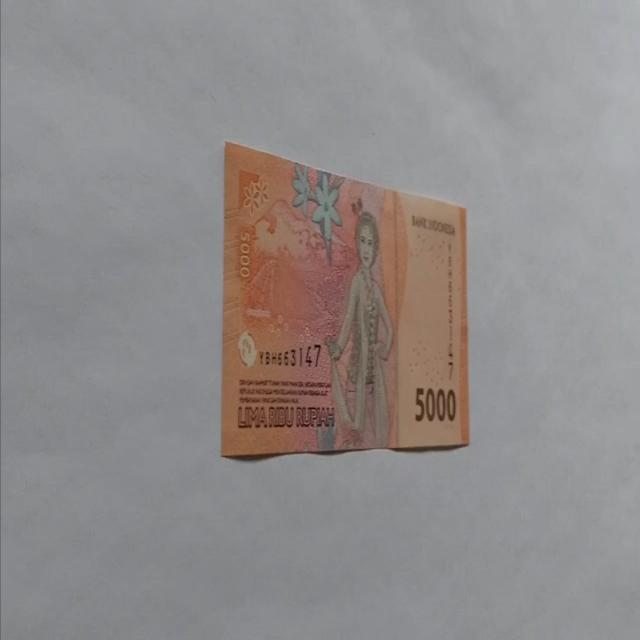lima ribu rupiah: (220, 138, 470, 458), (324, 210, 395, 449)
